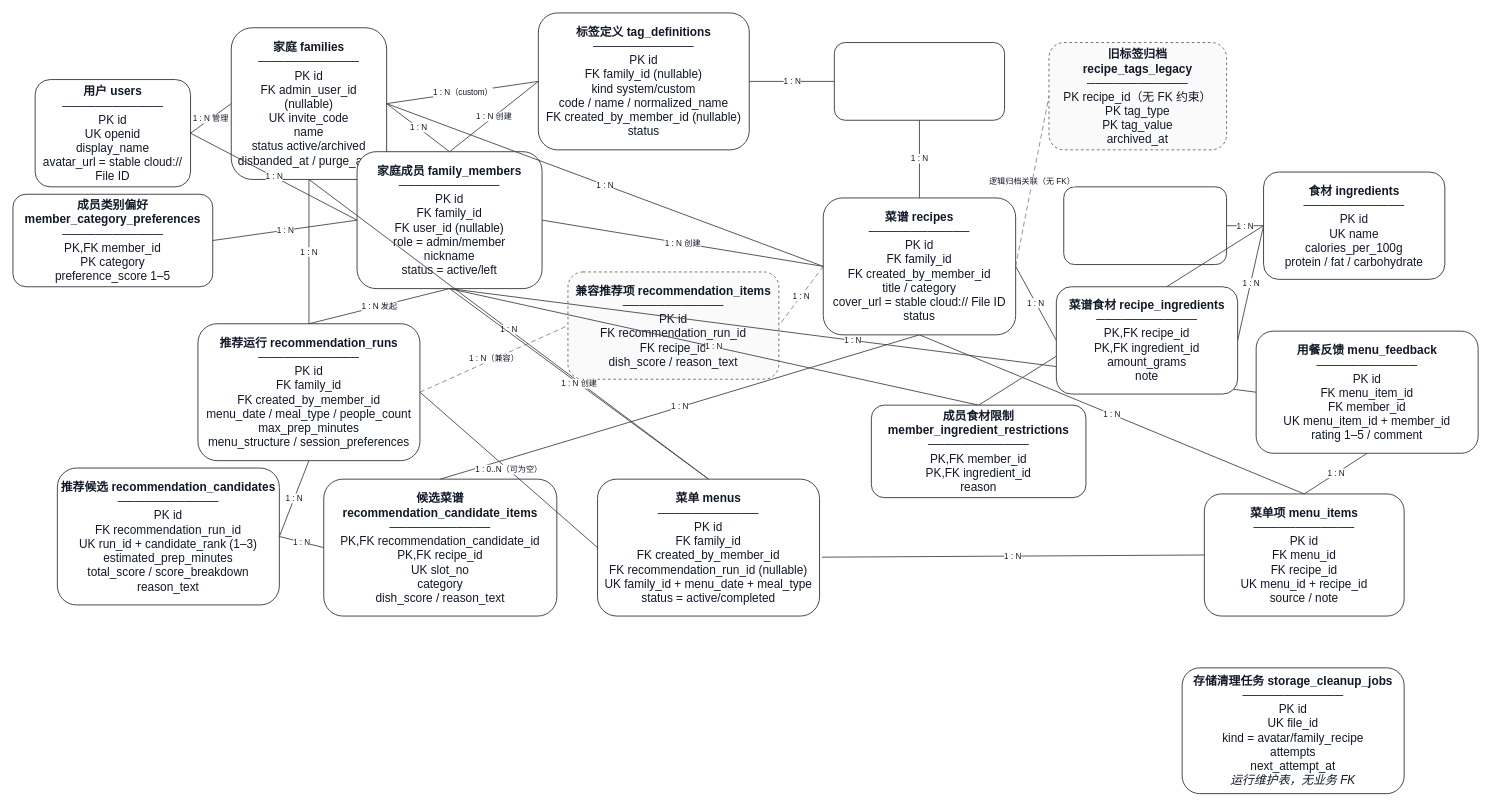
The diagram is 1492 pixels wide and 807 high, and some of its shapes have lost their labels. Each missing label, with the box of its shape:
菜谱标签 recipe_tags ──────────── PK,FK recipe_id PK,FK tag_id: (834, 42, 1005, 120)
食材季节 ingredient_seasons ──────────── PK,FK ingredient_id PK month: (1063, 186, 1227, 265)
